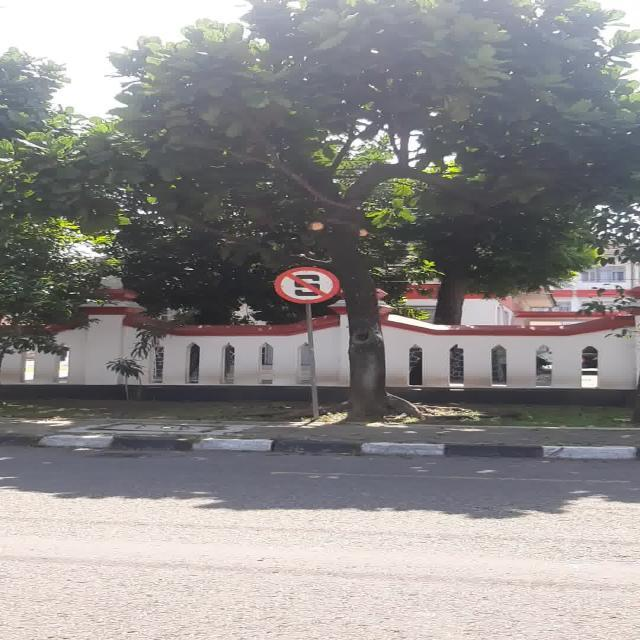Dilarang Berhenti: (274, 266, 340, 304)
